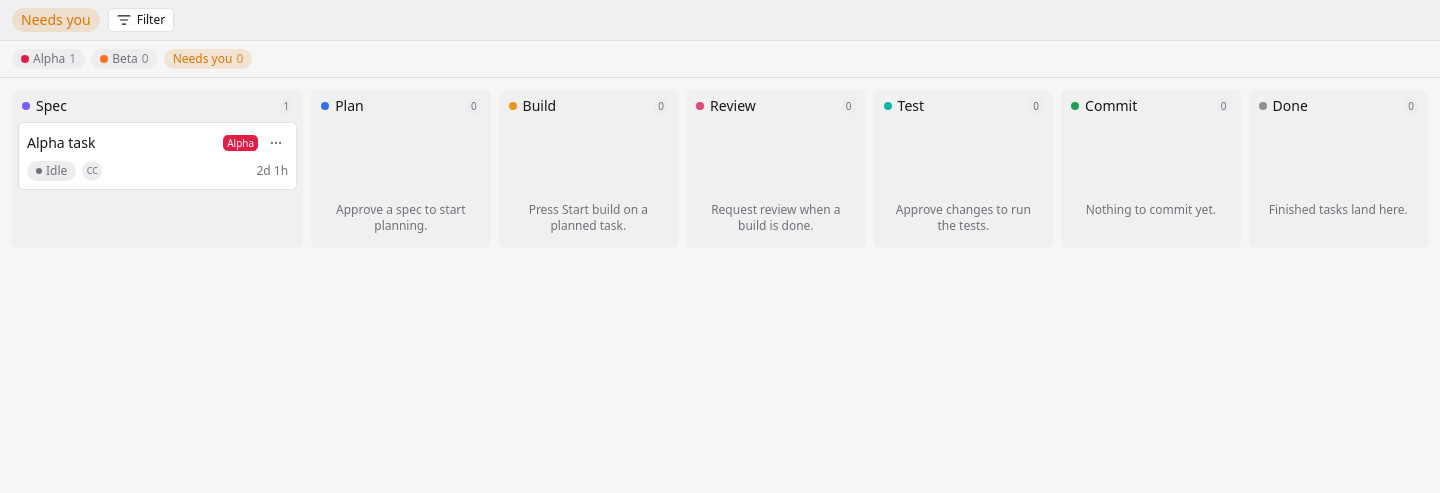
Test: workspace board modes › mixed keeps the chip row when the chosen project has no cards, so the filter can be undone
Click the button "Beta 0".
click(124, 59)  # box [91,49,158,69]
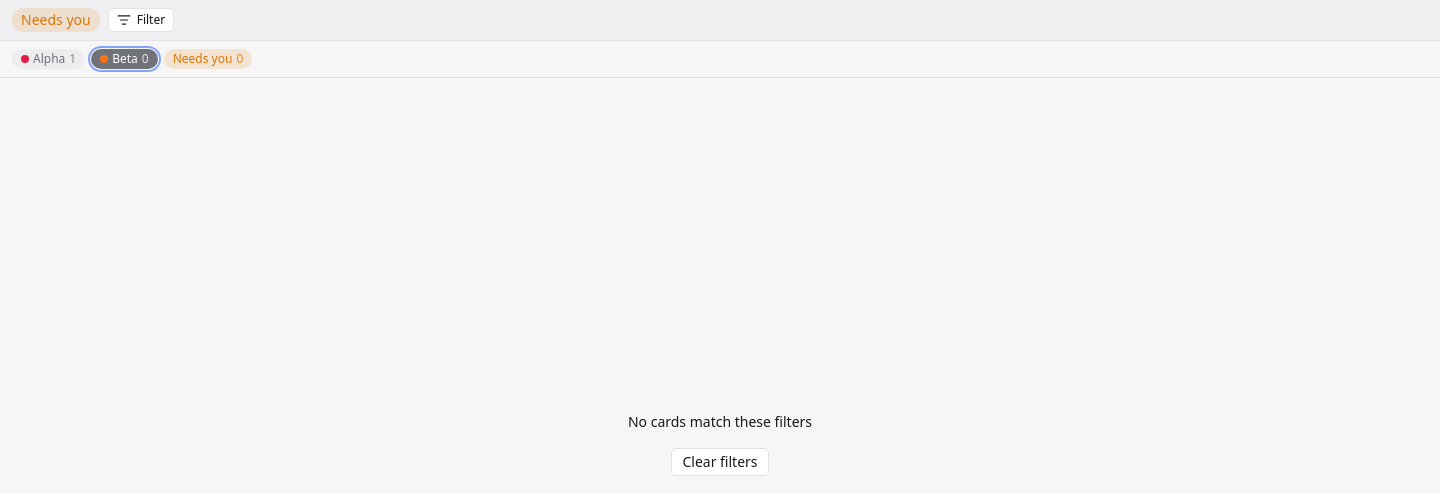
Now the heading "No cards match these filters" is shown, box [628,412,812,432]
Click the button "Beta 0".
click(124, 59)  # box [91,49,158,69]
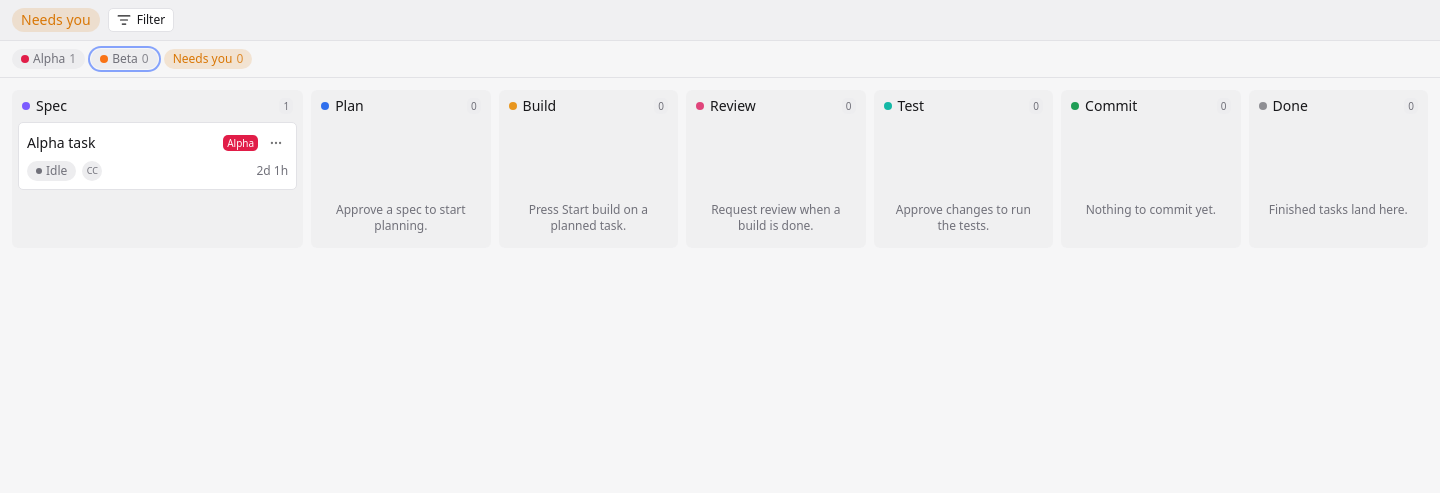
Now the text "Alpha task" is shown, box [27,133,95,152]
